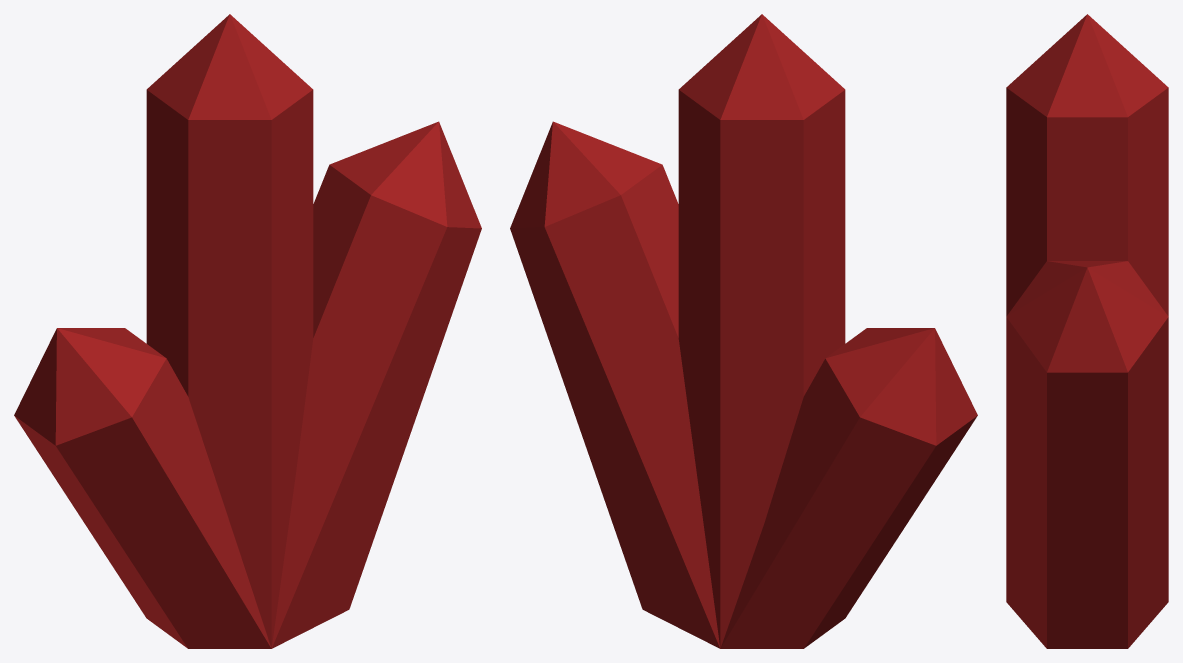
Rendered from red_cave_crystal.obj.
3 renders of one model, left to right at view 1: azimuth 30°, elevation 25°; view 2: azimuth 150°, elevation 25°; view 3: azimuth 270°, elevation 25°, orthographic. The views are drawn at different scales.
Parts seen in each view (by area): view 1: main; view 2: main; view 3: main.
Boxes of the visible parts, left/top/right/bottom form: main: left=14, top=14, right=481, bottom=648; main: left=510, top=14, right=977, bottom=648; main: left=1006, top=14, right=1168, bottom=648.
Size of the model in its own units: 0.7381 by 1 by 0.25.
